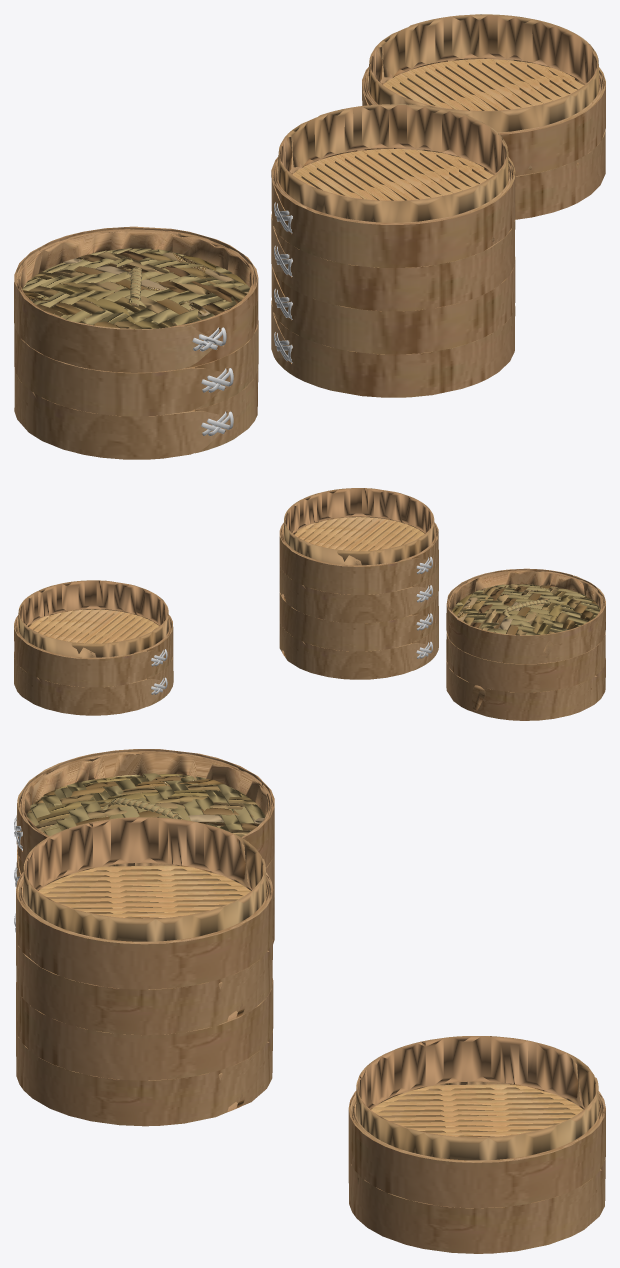
3 renders of one model, top to bottom at view 1: azimuth 30°, elevation 25°; view 2: azimuth 150°, elevation 25°; view 3: azimuth 270°, elevation 25°, orthographic. The views are drawn at different scales.
Size of the model in its own units: 0.6147 by 0.1586 by 0.4177.
6 materials, 4 textured.
